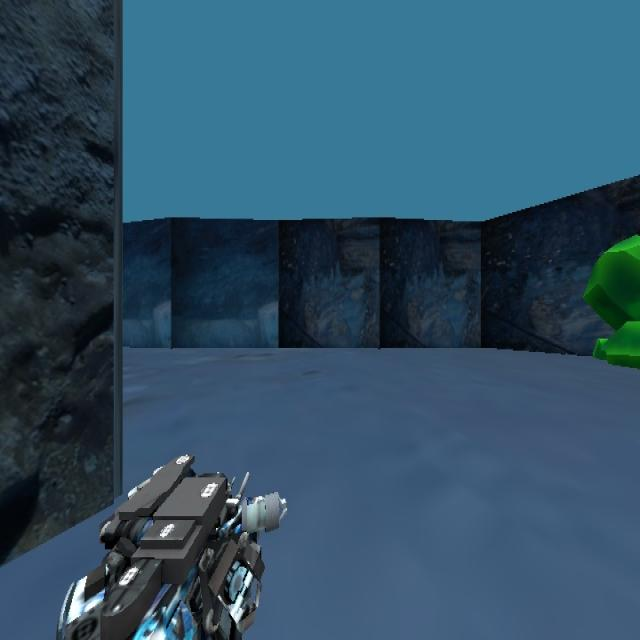Diamon: (582, 232, 639, 368)
